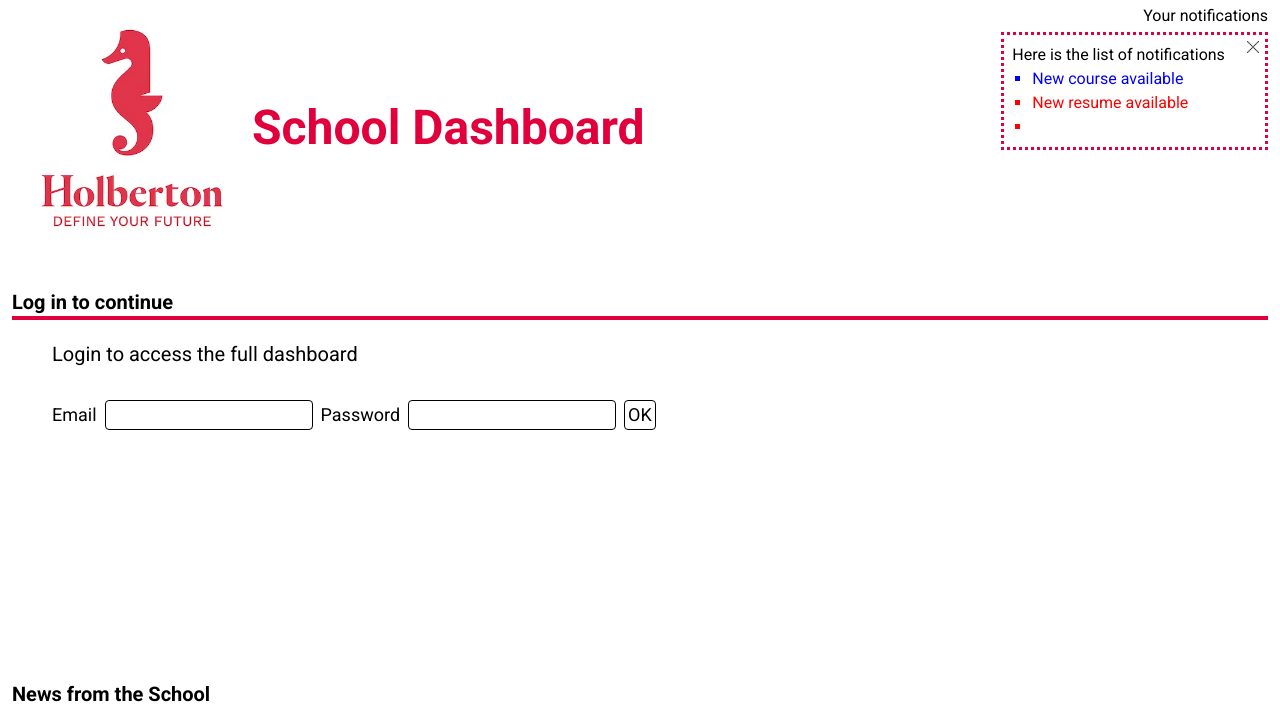
App component › displays the CourseList and removes the Login form after logging in
Type "user@holberton.com" into the field labelled "Email". click: (209, 415)
box: left=105, top=400, right=313, bottom=430
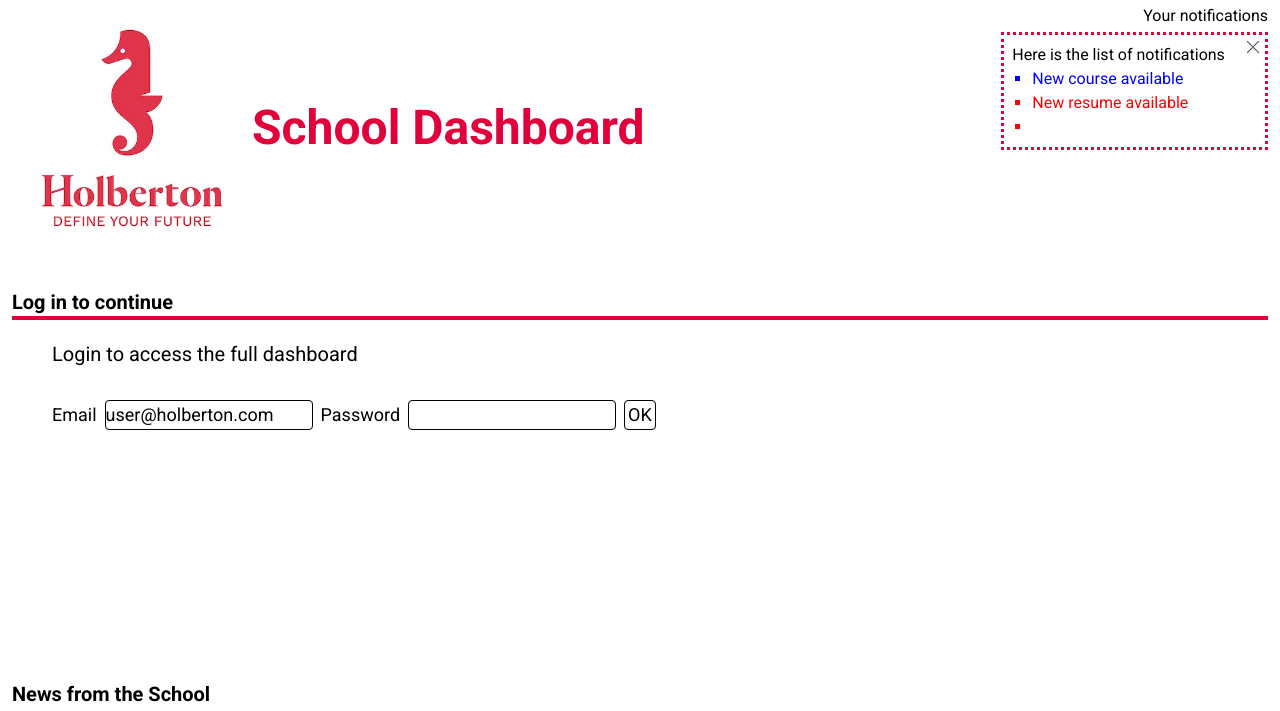
Type "longpassword" into the password field labelled "Password". click: (512, 415)
box: left=408, top=400, right=616, bottom=430
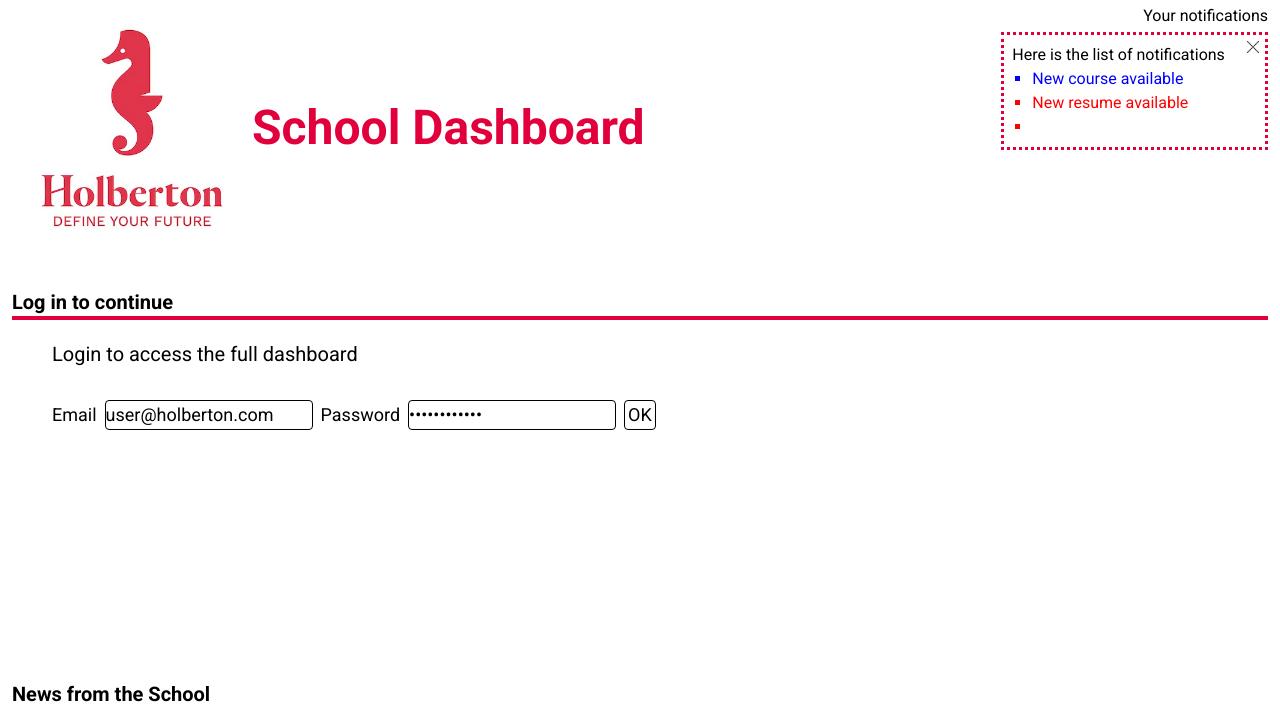
Click the button "OK". click: (640, 415)
box: left=624, top=400, right=656, bottom=430
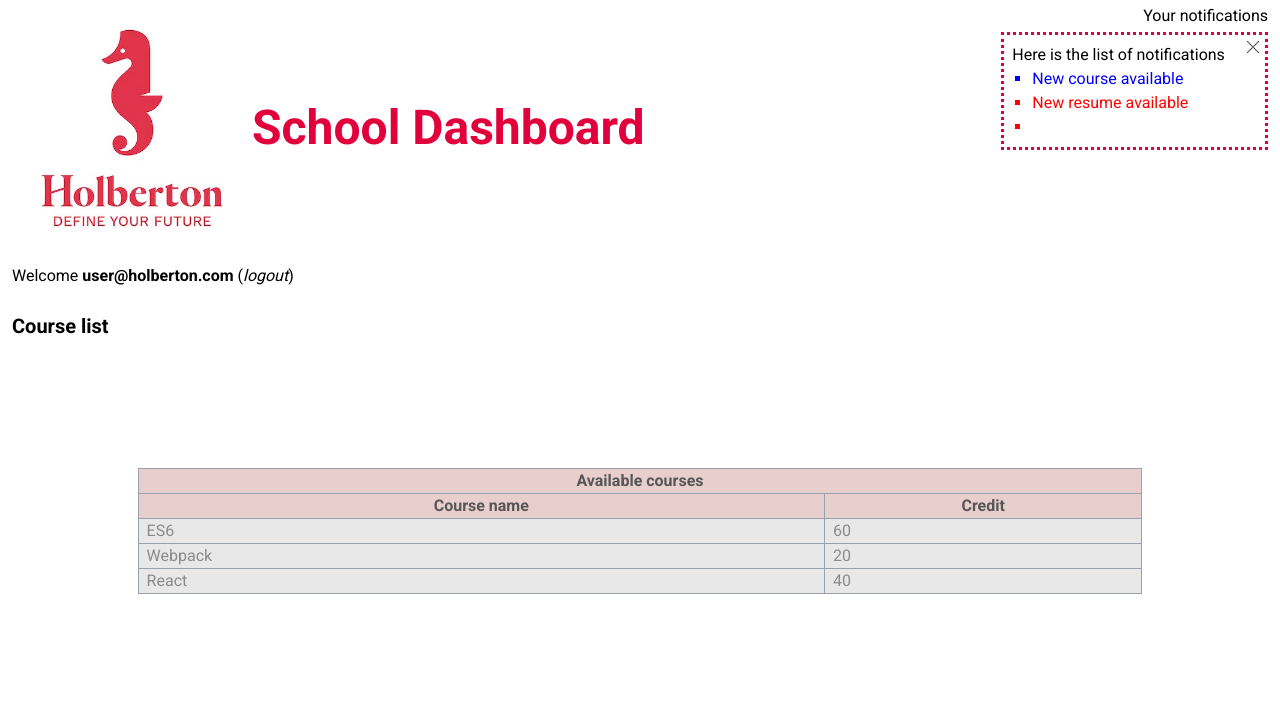
Now the heading "Course list" is shown, box left=12, top=314, right=109, bottom=338
Now the table is shown, box left=138, top=468, right=1142, bottom=594
Now the label labelled "Email" is gone
